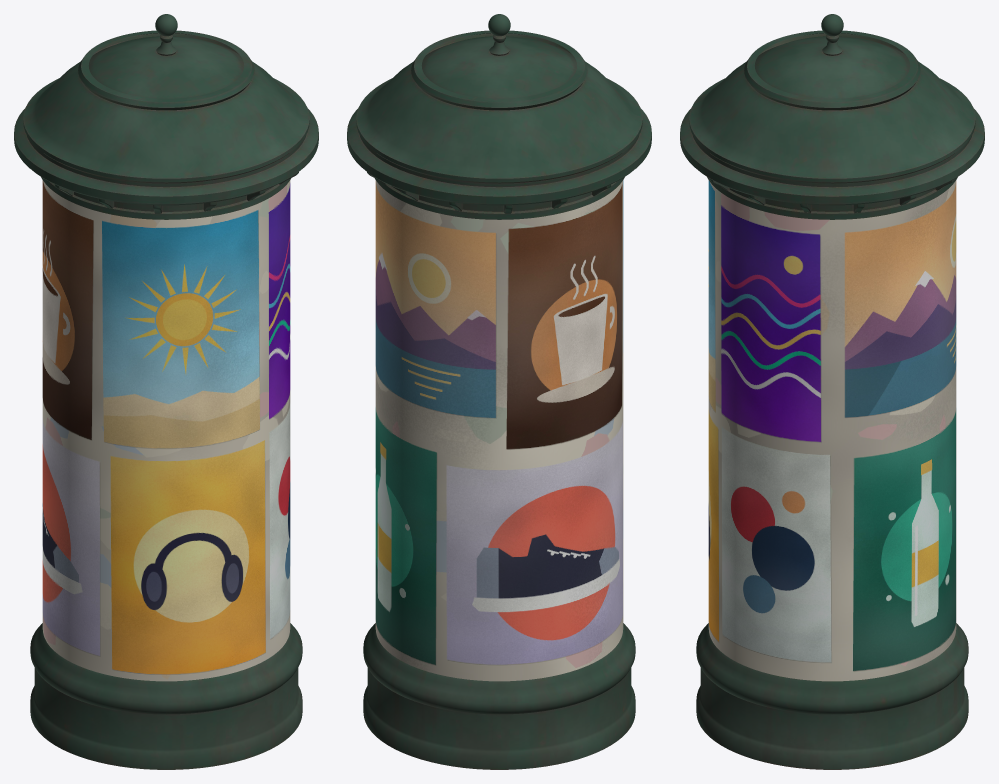
Rendered from billboard-column.glb.
3 views of the same model, side by side, from view 1: azimuth 30°, elevation 25°; view 2: azimuth 150°, elevation 25°; view 3: azimuth 270°, elevation 25° (orthographic).
Visible parts, largest first — view 1: advertising-column_posters, advertising-column_body; view 2: advertising-column_posters, advertising-column_body; view 3: advertising-column_posters, advertising-column_body.
Part boxes in pixels (left/top/right/bottom): advertising-column_posters: left=42, top=180, right=290, bottom=681; advertising-column_body: left=14, top=14, right=318, bottom=769; advertising-column_posters: left=375, top=180, right=623, bottom=681; advertising-column_body: left=347, top=14, right=651, bottom=769; advertising-column_posters: left=708, top=180, right=956, bottom=681; advertising-column_body: left=680, top=14, right=984, bottom=769.
Bounding box in the file's own units: 1.49 × 3.76 × 1.49.
Materials: 2 (2 with a texture image).
